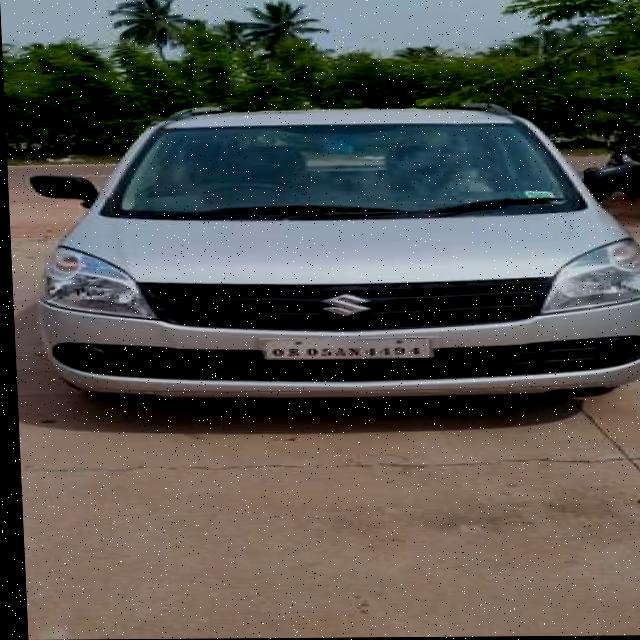plate: (256, 338, 429, 361)
